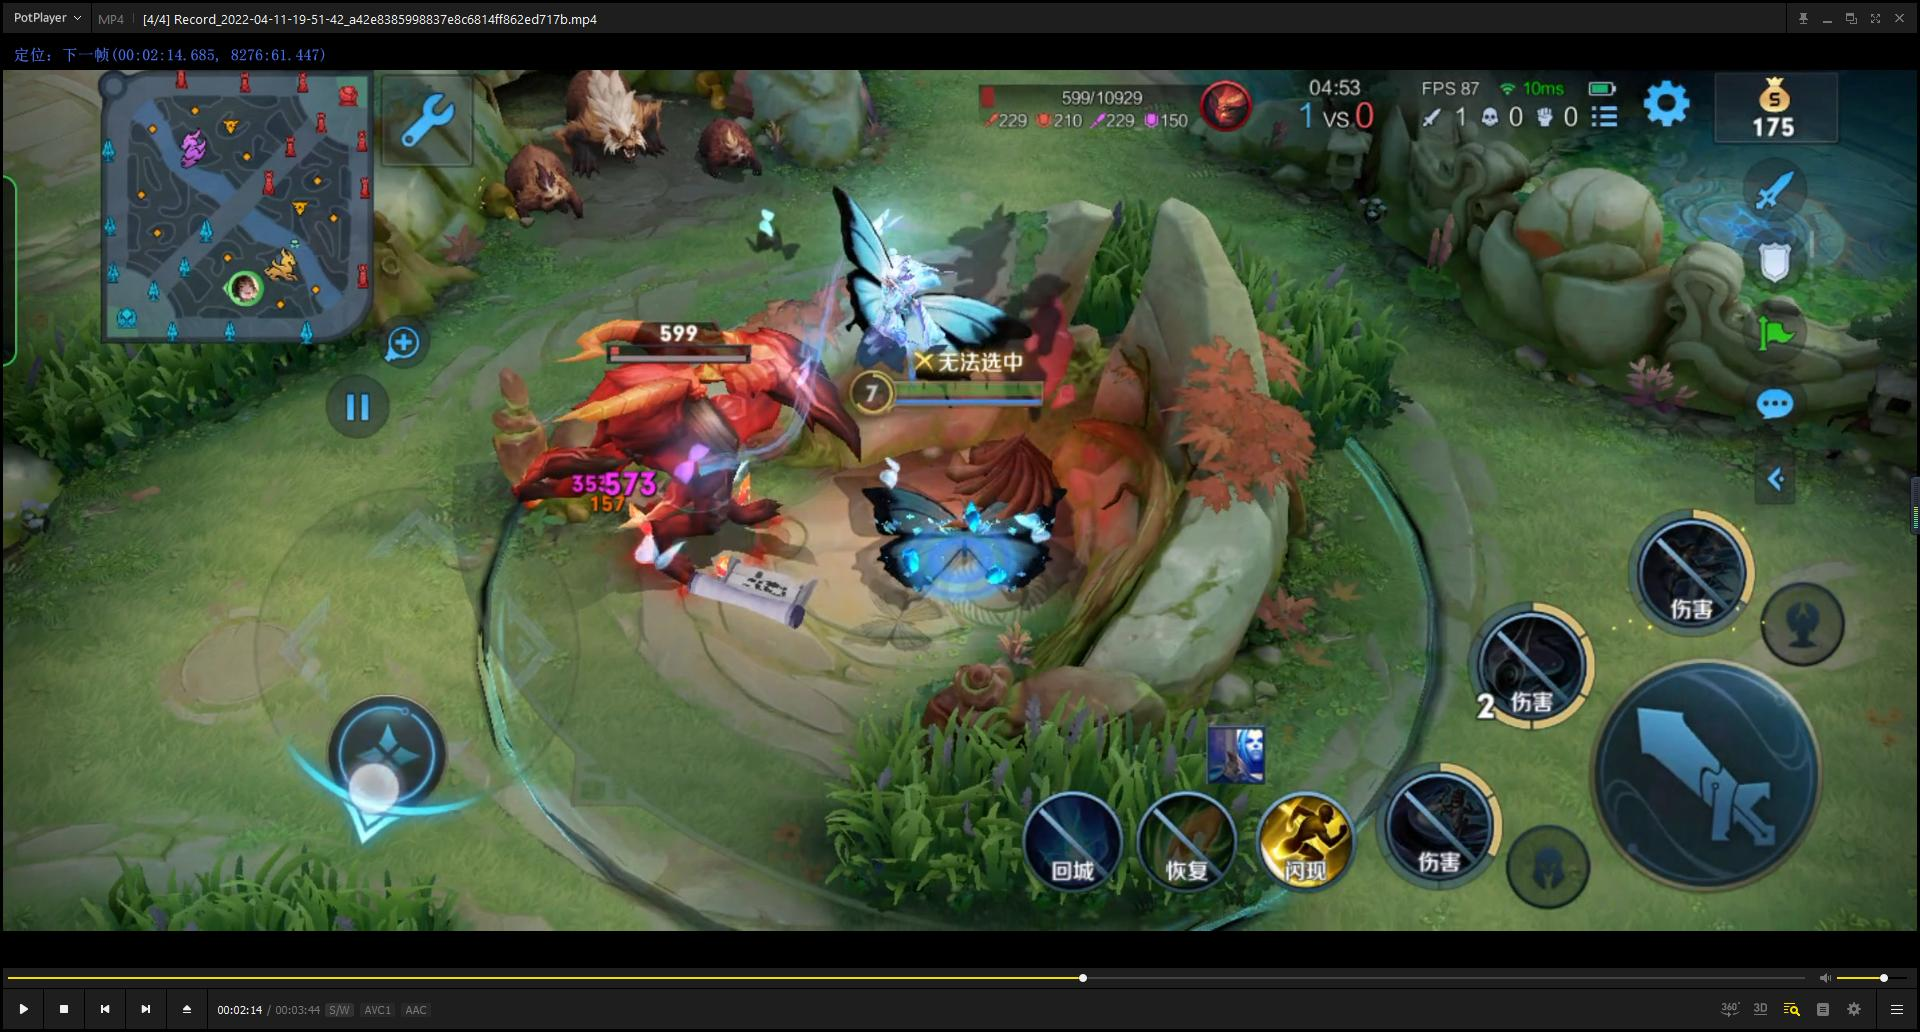Buff: (449, 290, 884, 635)
Hero: (820, 203, 1099, 605)
Pig: (537, 66, 672, 172), (479, 125, 587, 227), (684, 109, 778, 187)
